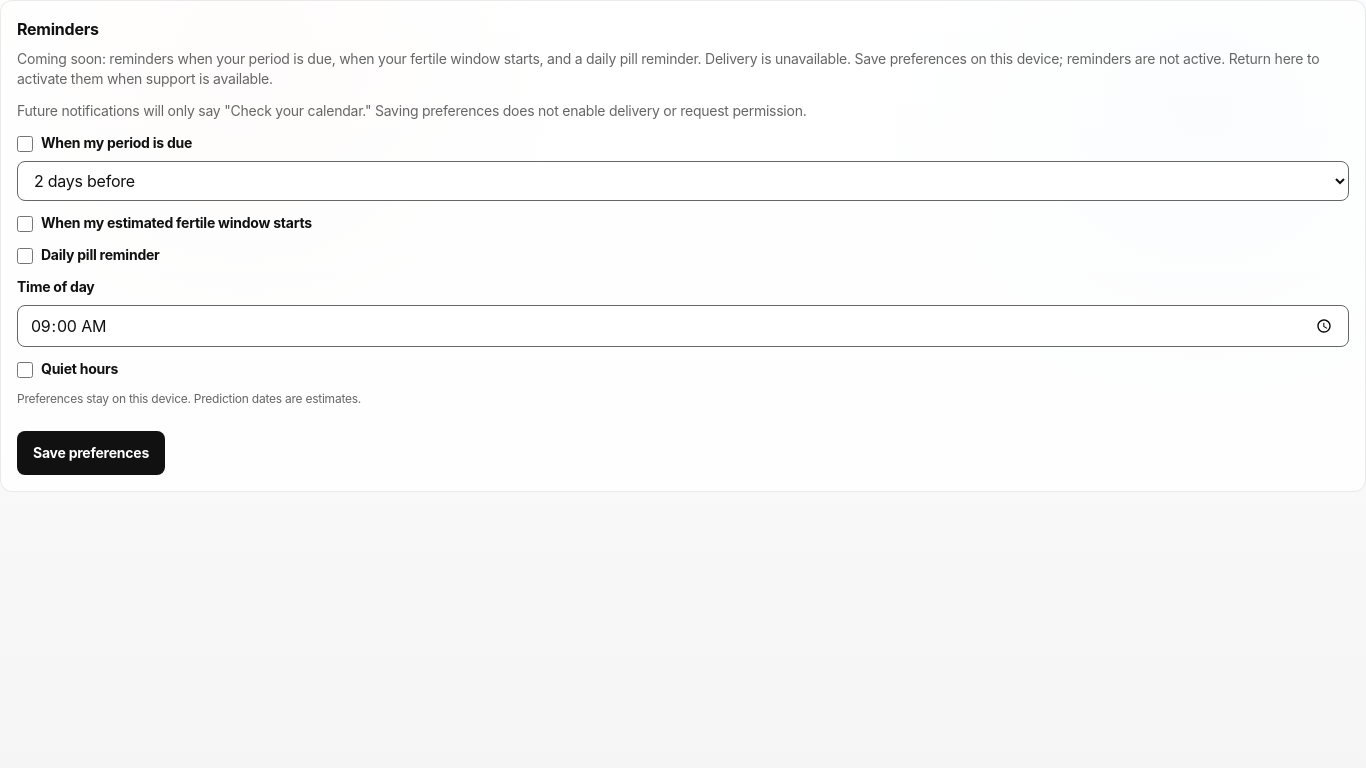
Test: RemindersSection › shows a calm "coming soon" while push is not configured (503): local controls, no delivery
Expected: the text "Coming soon: reminders when your period is due" is shown, x1=17 y1=50 x2=1319 y2=87
Click the checkbox labelled "When my period is due" at (25,144), box x1=17 y1=136 x2=33 y2=152
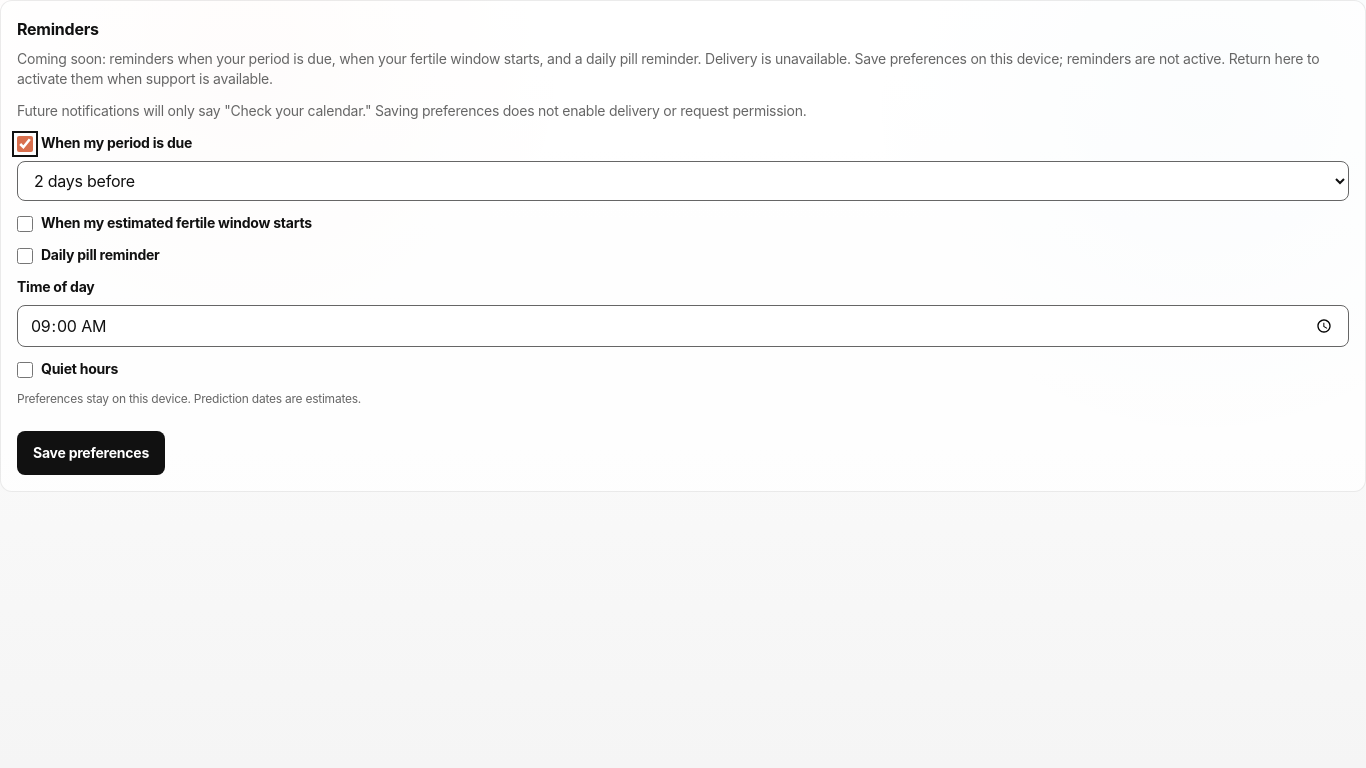
Select "5 days before" in the dropdown named "How early" at (683,181), box x1=17 y1=161 x2=1349 y2=201
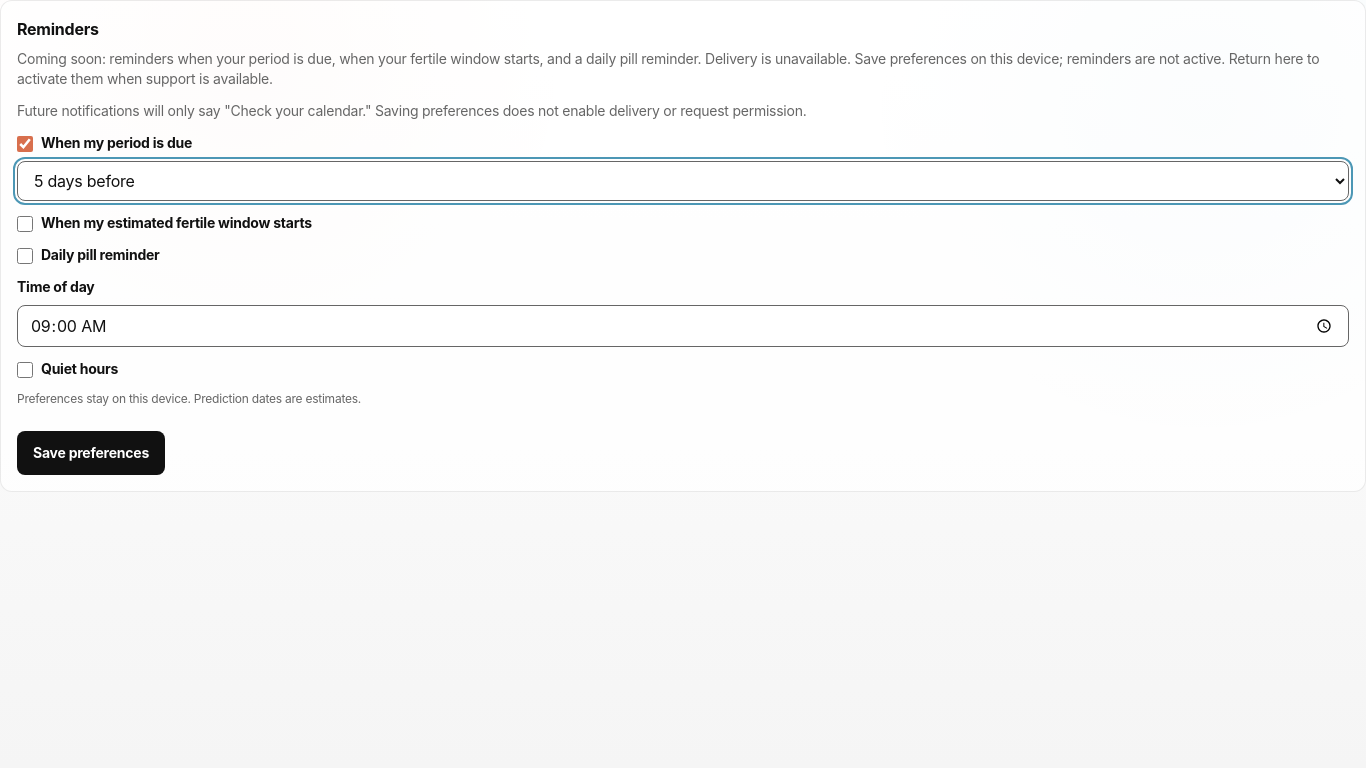
Click the button "Save preferences" at (91,453), box x1=17 y1=431 x2=165 y2=475
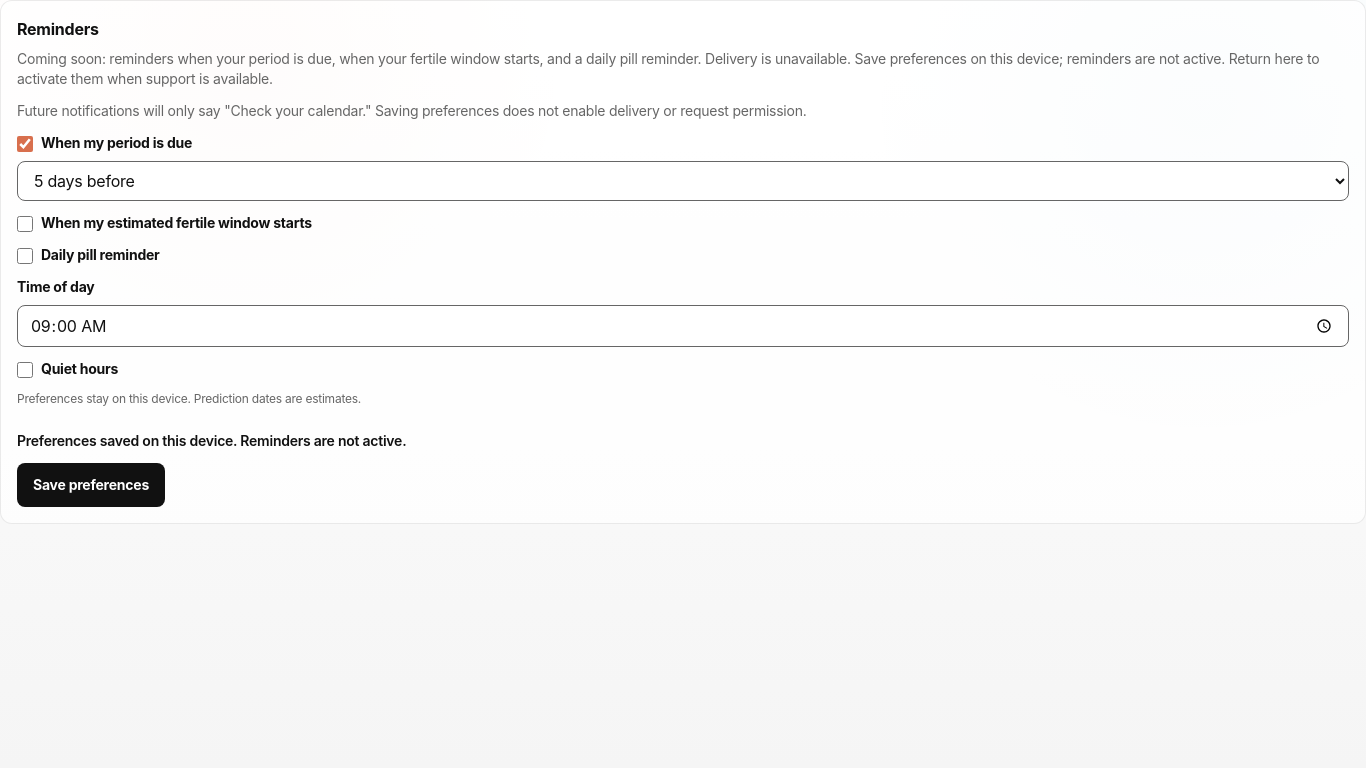
Result: the text "Preferences saved on this device. Reminders are not active." is shown at x1=17 y1=432 x2=406 y2=449
